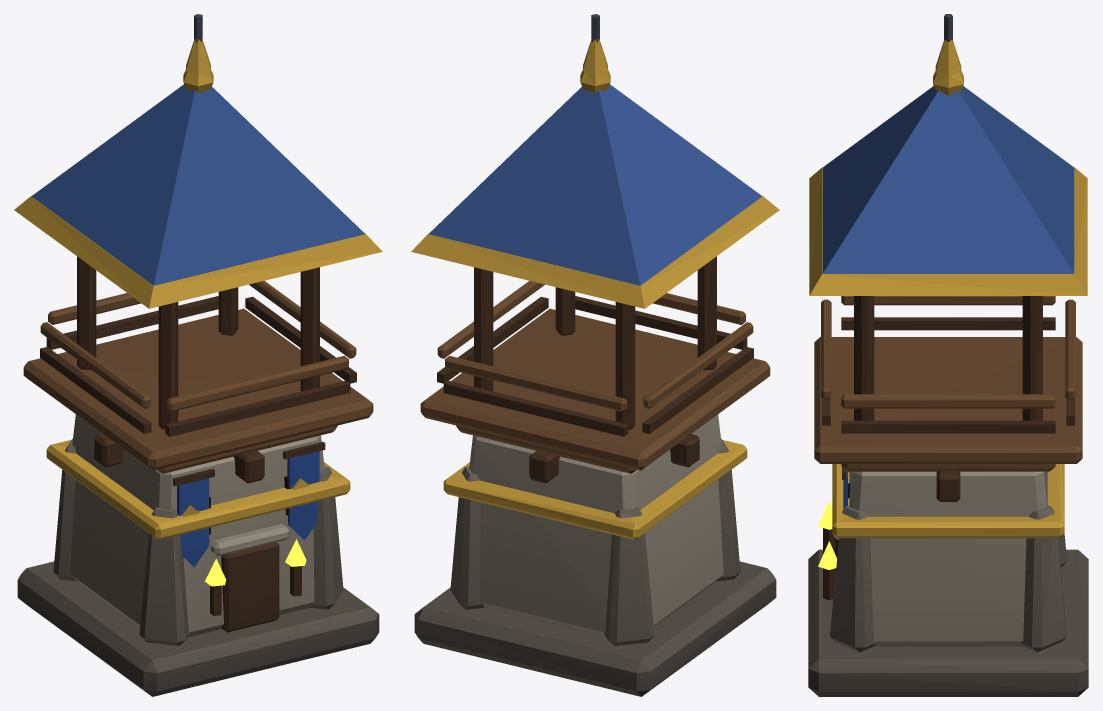
File: arrow_tower_2.glb
The picture shows the model from 3 angles, left to right: view 1: azimuth 30°, elevation 25°; view 2: azimuth 150°, elevation 25°; view 3: azimuth 270°, elevation 25°; orthographic projection. The views are drawn at different scales.
Visible parts, largest first — view 1: arrow_tower_2; view 2: arrow_tower_2; view 3: arrow_tower_2.
Boxes of the visible parts, x1,y1,x2,y2 form: arrow_tower_2: (14,14,382,696); arrow_tower_2: (411,14,779,696); arrow_tower_2: (808,14,1088,696).
Size of the model in its own units: 0.94 by 2.32 by 0.94.
